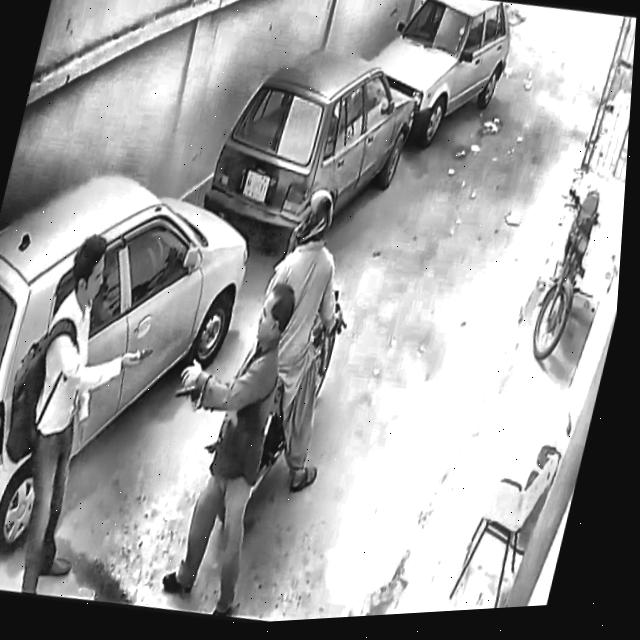pistol: (160, 374, 217, 431)
